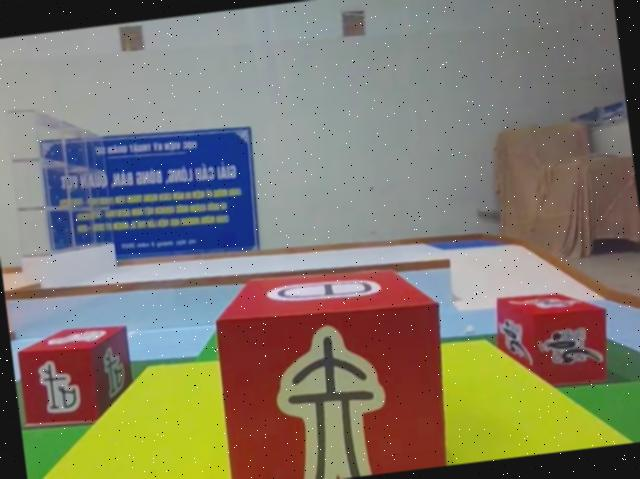R1: (489, 281, 617, 395)
R2 Fake: (204, 251, 461, 479)
R2 Real: (12, 318, 140, 430)
